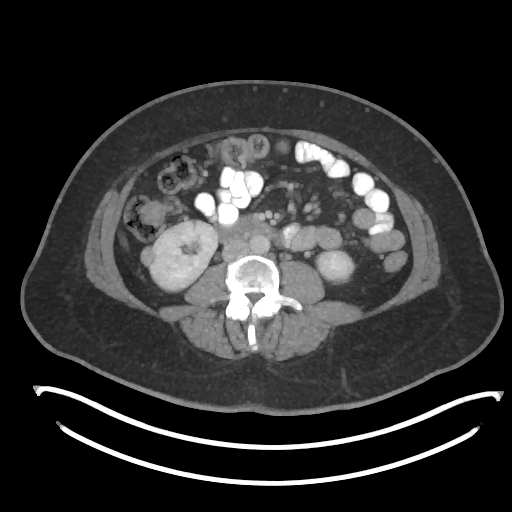Lesion: (136, 246, 155, 268)
